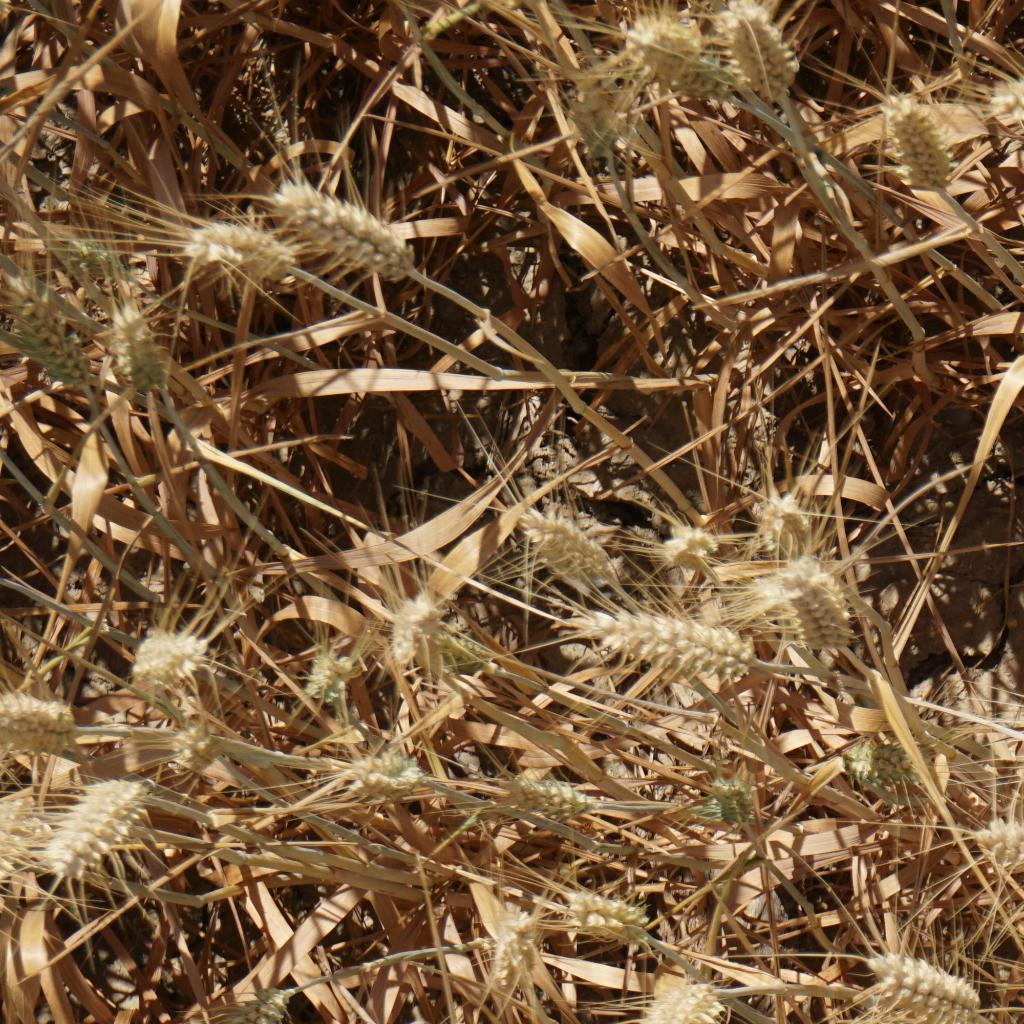0-0: (545, 43, 647, 198), (275, 179, 423, 277), (41, 768, 163, 882), (500, 490, 628, 596), (582, 602, 748, 681), (165, 195, 291, 293), (0, 280, 106, 393), (868, 945, 1012, 1024), (102, 279, 179, 401), (828, 716, 935, 797), (687, 761, 789, 840), (116, 616, 216, 695), (474, 903, 547, 1008), (0, 687, 100, 760), (777, 555, 856, 647), (514, 760, 614, 830), (732, 13, 807, 106), (551, 870, 649, 939), (630, 13, 712, 92), (384, 590, 462, 667), (891, 90, 953, 183), (344, 736, 433, 795), (200, 970, 295, 1024), (295, 630, 366, 700), (657, 504, 724, 577), (628, 972, 720, 1024), (752, 478, 815, 553), (0, 792, 43, 900), (974, 51, 1024, 143), (974, 805, 1024, 893), (167, 718, 218, 775)
